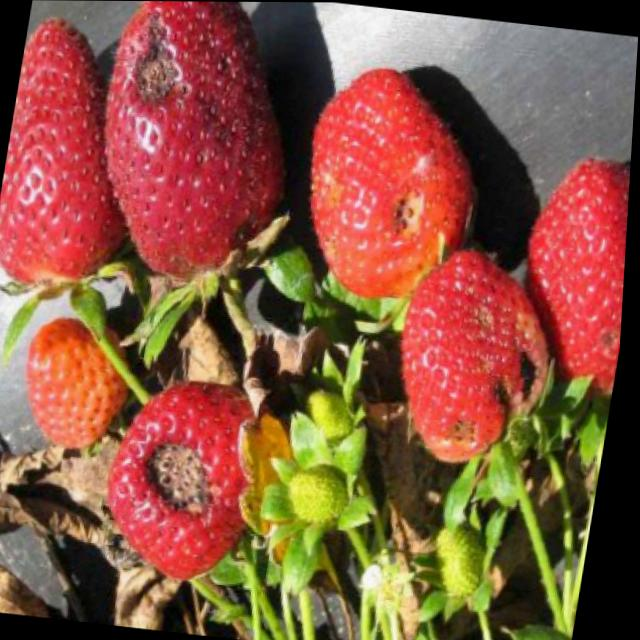Anthracnose Fruit Rot: (123, 9, 241, 150), (448, 343, 544, 452), (138, 430, 224, 526), (387, 191, 430, 246)
